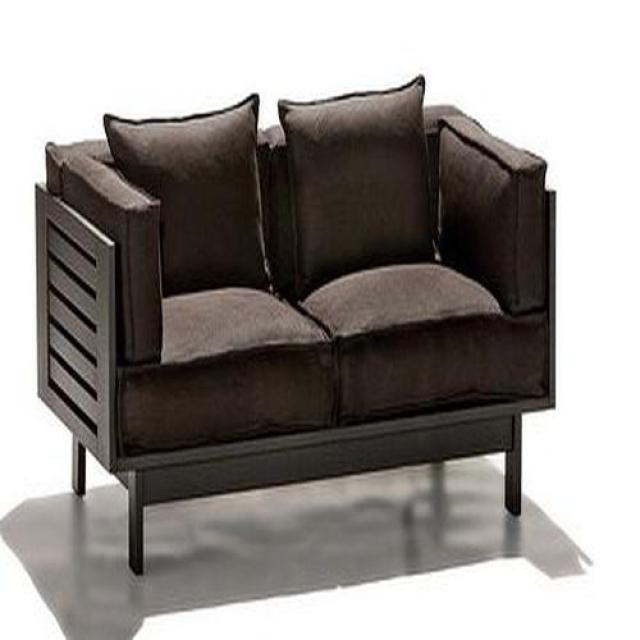sofa: (33, 77, 558, 577)
